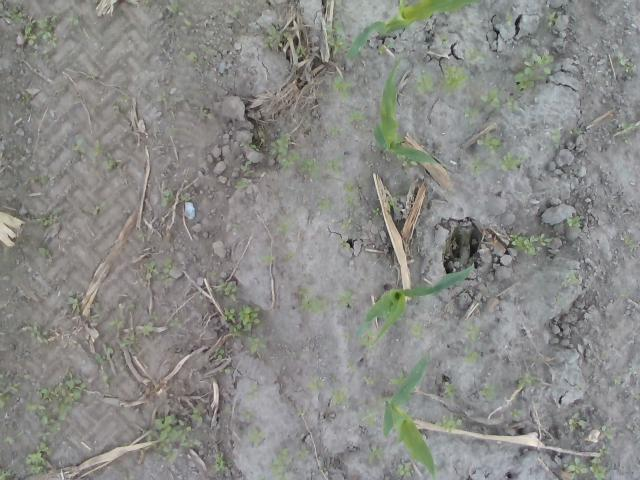Maize: (358, 264, 475, 343), (349, 0, 478, 57), (383, 356, 436, 480), (372, 59, 434, 164)
Weeds: (26, 368, 87, 439), (143, 413, 194, 462), (514, 46, 555, 90), (222, 304, 262, 336), (24, 14, 61, 47), (510, 227, 552, 256), (478, 85, 520, 113), (271, 135, 303, 169), (22, 443, 54, 476), (294, 286, 328, 316), (0, 367, 21, 414), (439, 63, 468, 96), (322, 19, 347, 54), (142, 256, 172, 285), (298, 157, 322, 185), (616, 49, 638, 79), (271, 447, 291, 480), (476, 131, 503, 155), (332, 73, 354, 102), (563, 456, 589, 480), (590, 447, 608, 480), (500, 151, 528, 172), (213, 280, 238, 302), (402, 318, 425, 341), (241, 428, 266, 449), (335, 286, 355, 312), (434, 414, 462, 432), (618, 120, 638, 145), (330, 386, 352, 408), (358, 406, 378, 430), (463, 318, 481, 343), (30, 320, 48, 344), (260, 30, 284, 48), (346, 109, 368, 128), (277, 217, 300, 235), (516, 371, 540, 388), (464, 106, 482, 128), (414, 72, 432, 94), (191, 406, 210, 426), (95, 345, 114, 365), (385, 190, 401, 213), (30, 212, 58, 225), (478, 383, 498, 401), (106, 318, 126, 336), (545, 10, 561, 32), (318, 196, 336, 215), (361, 328, 378, 348), (368, 446, 385, 466), (326, 158, 344, 176), (544, 126, 562, 144), (248, 336, 266, 354), (213, 451, 227, 474), (304, 375, 324, 391), (295, 446, 311, 466), (396, 154, 418, 168), (6, 6, 23, 24), (167, 0, 185, 17), (388, 368, 407, 384), (192, 103, 209, 120), (65, 287, 80, 306), (344, 180, 354, 208), (178, 50, 198, 64), (464, 348, 481, 364), (466, 48, 485, 61), (30, 174, 50, 186), (566, 215, 582, 230), (399, 460, 412, 478), (72, 144, 86, 160), (100, 369, 114, 385), (246, 383, 258, 401), (62, 14, 80, 26), (222, 5, 240, 17), (624, 238, 636, 256), (338, 216, 353, 230), (160, 190, 172, 207), (0, 468, 17, 480), (326, 127, 346, 137), (470, 158, 480, 178), (92, 142, 106, 156), (602, 426, 616, 440), (564, 417, 579, 430), (168, 317, 184, 329), (120, 336, 136, 348), (31, 246, 50, 256), (371, 207, 382, 224), (240, 409, 254, 422), (142, 322, 154, 337), (233, 179, 248, 190), (256, 255, 274, 264), (446, 382, 456, 398), (218, 366, 234, 376), (103, 158, 116, 170), (0, 436, 15, 446), (346, 360, 358, 372), (378, 44, 392, 54), (179, 192, 193, 202), (339, 237, 350, 249), (364, 374, 375, 386), (242, 166, 255, 176), (509, 407, 522, 417), (239, 143, 257, 150), (612, 374, 624, 384), (214, 348, 224, 360), (184, 17, 193, 30), (295, 47, 306, 57), (118, 94, 130, 103), (230, 223, 240, 233), (505, 14, 513, 26), (568, 274, 578, 283), (142, 0, 152, 8), (439, 36, 448, 44), (296, 408, 304, 417), (156, 95, 166, 102), (257, 475, 269, 480), (26, 95, 32, 104)
